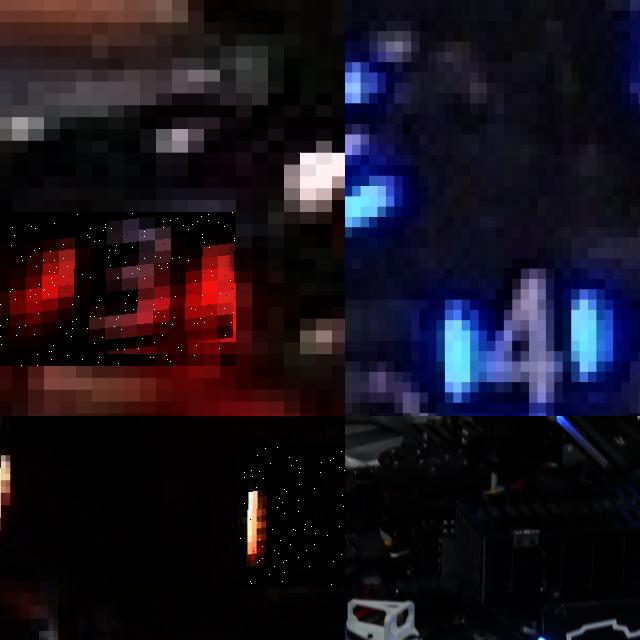B4: (436, 258, 614, 413)
Bs: (536, 608, 640, 640)
R2: (239, 442, 345, 587)
R3: (0, 212, 236, 366)
